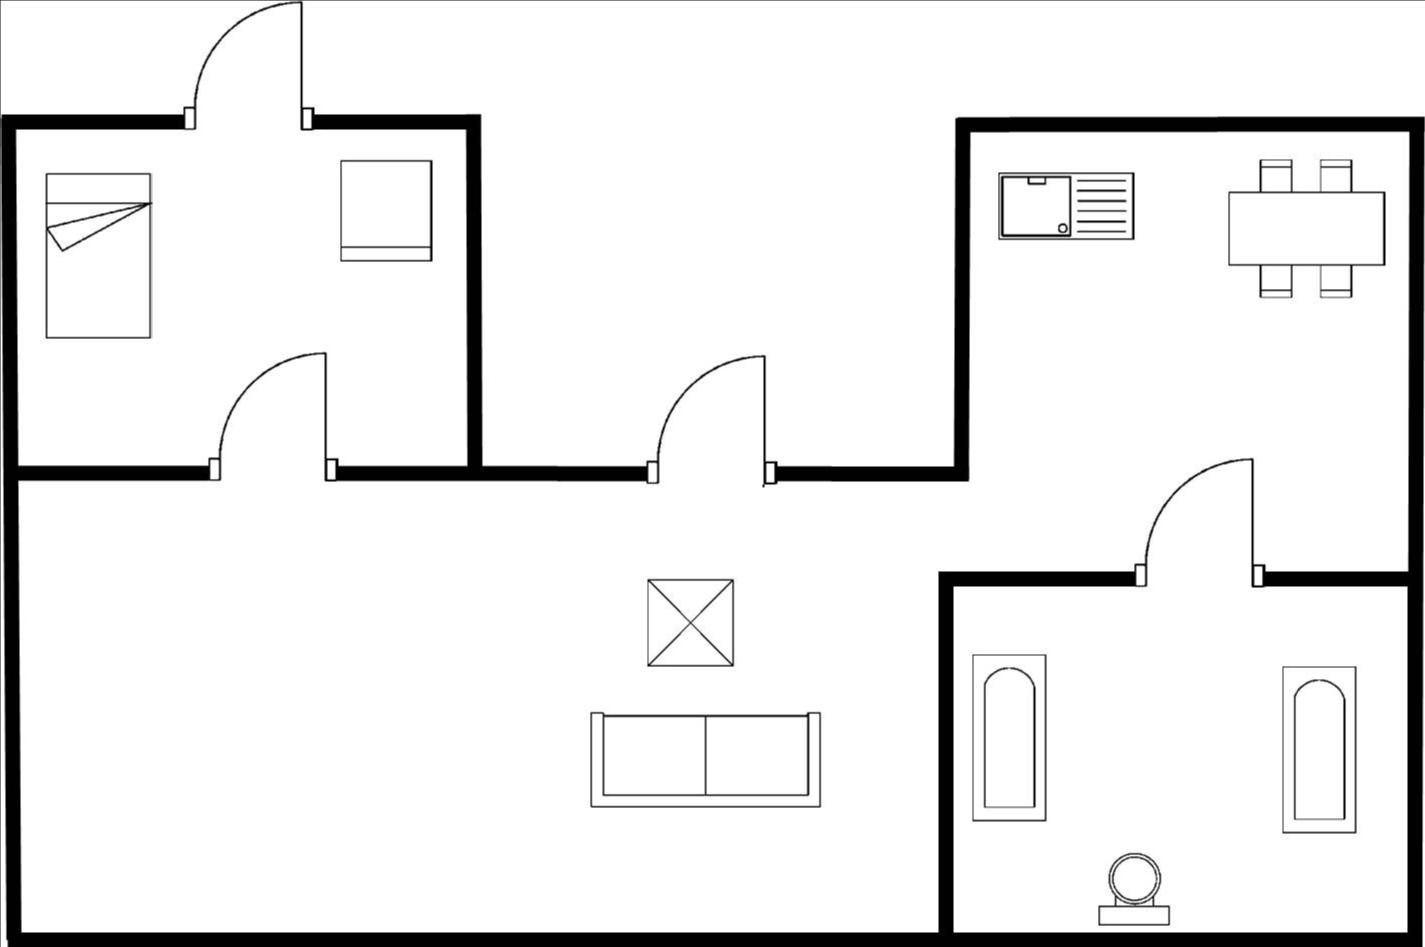bed: (39, 166, 161, 343)
dining_table: (1223, 152, 1391, 307)
sink: (993, 165, 1141, 245)
sofa: (583, 707, 831, 810)
toilet: (1092, 844, 1179, 929)
tub: (1276, 660, 1366, 838), (964, 647, 1053, 827)
